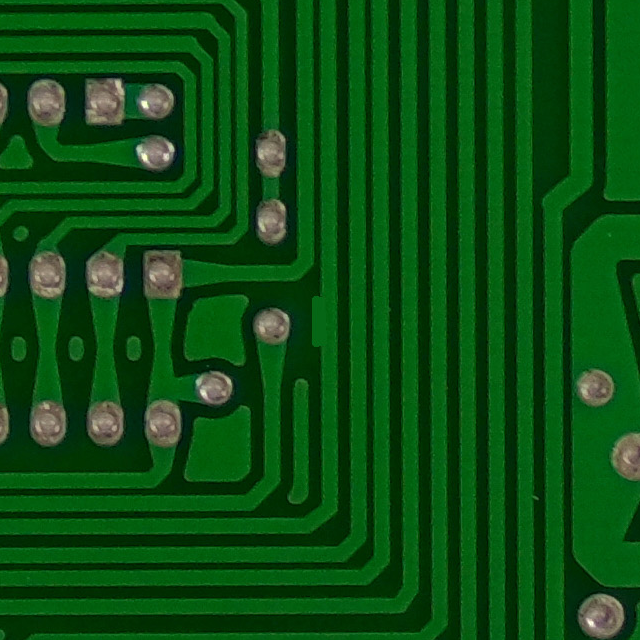spur: (302, 282, 338, 359)
